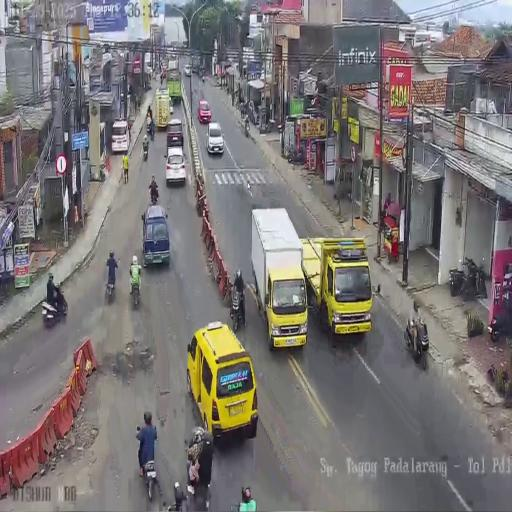3: (298, 234, 372, 344), (250, 206, 304, 350), (154, 89, 170, 130), (165, 68, 182, 104), (144, 52, 152, 76), (168, 58, 178, 72), (161, 58, 169, 74)
car: (185, 322, 258, 442), (142, 206, 170, 268), (165, 148, 187, 187), (111, 118, 130, 154), (206, 122, 224, 156), (166, 122, 184, 154), (197, 99, 211, 123), (168, 98, 174, 115), (192, 64, 200, 76), (184, 64, 191, 77)
truck: (449, 256, 485, 300), (404, 310, 428, 370), (42, 286, 68, 326), (230, 288, 243, 332), (488, 312, 506, 342), (287, 144, 305, 165), (105, 269, 116, 301), (130, 275, 140, 307), (149, 184, 159, 204), (244, 117, 250, 137), (149, 124, 155, 142), (143, 141, 148, 161), (160, 72, 162, 85), (202, 74, 204, 84)
